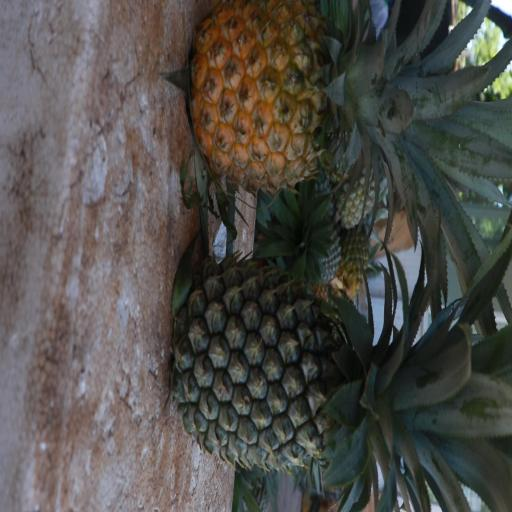Pineapple - v8 v1: (194, 2, 497, 199)
